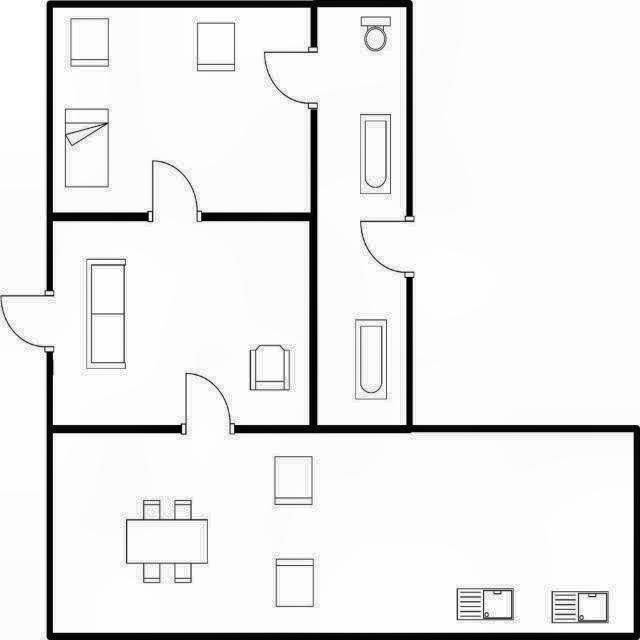room: (53, 433, 633, 632), (53, 8, 311, 211), (54, 221, 309, 425), (318, 8, 406, 425)
